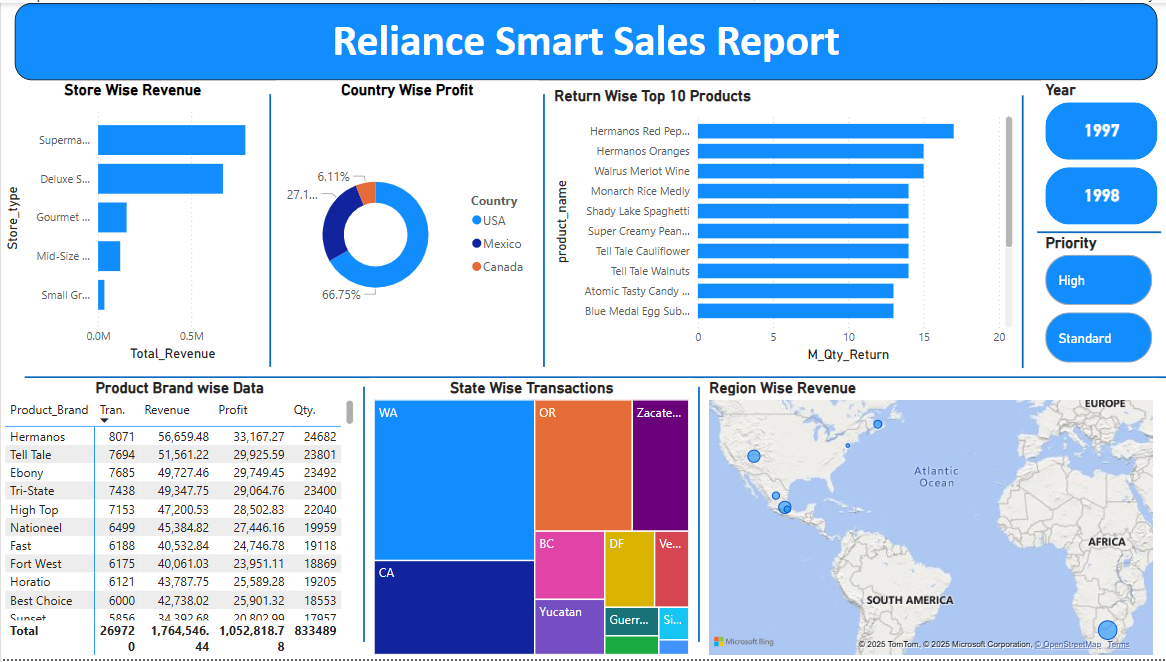

The dashboard page shown, as its layout file describes it:
{"tool":"powerbi","page":{"name":"Distribution Report","canvas":[1280,720],"ordinal":1},"visuals":[{"type":"textbox","box":[15.1,0,1254.2,85.1],"z":0},{"type":"shape","box":[26.1,404.8,1254.2,12.3],"z":1000},{"type":"shape","box":[1115.6,101.5,12.3,299.1],"z":2000},{"type":"shape","box":[590.6,100.3,12.2,299.6],"z":3000},{"type":"shape","box":[289.8,100.3,12.2,299.6],"z":4000},{"type":"shape","box":[392.5,421.3,12.3,279.9],"z":5000},{"type":"shape","box":[760.2,421.3,12.3,279.9],"z":6000},{"type":"barChart","title":"Store Wise Revenue","fields":{"Category":["d_Stores.store_type"],"Y":["Measures (2).M_Total_Revenue"]},"box":[0,85.1,289.5,312.9],"z":7000},{"type":"donutChart","title":"Country Wise Profit","fields":{"Y":["Measures (2).M_Total_Profit"],"Category":["d_Stores.store_country"]},"box":[301.9,85.1,288.2,319.7],"z":8000},{"type":"advancedSlicerVisual","fields":{"Values":["d_Calendar.Year"]},"box":[1141.7,85.1,133.1,163.3],"z":9000},{"type":"pivotTable","title":"Product Brand wise Data","fields":{"Rows":["d_Products.product_brand"],"Values":["Measures (2).M_Total_Transactions","Measures (2).M_Total_Revenue","Measures (2).M_Total_Profit","Measures (2).M_Quantity_Sold"]},"box":[0,411.7,392.5,308.7],"z":10000},{"type":"treemap","title":"State Wise Transactions","fields":{"Group":["d_Customers.customer_state_province"],"Values":["Measures (2).M_Total_Transactions"]},"box":[404.8,411.7,355.4,308.7],"z":11000},{"type":"map","title":"Region Wise Revenue","fields":{"Size":["Measures (2).M_Total_Revenue"],"Category":["d_Regions.sales_region Hierarchy.sales_region","d_Regions.sales_region Hierarchy.sales_district"]},"box":[772.6,411.7,496.7,308.7],"z":12000},{"type":"advancedSlicerVisual","fields":{"Values":["d_Customers.Priority"]},"box":[1141.7,252.5,127.6,148.2],"z":13000},{"type":"barChart","title":"Return Wise Top 10 Products","fields":{"Y":["Measures (2).M_Qty_Return"],"Category":["d_Products.product_name"]},"box":[602.4,91.9,513.2,307.4],"z":14000},{"type":"shape","box":[1137.6,245.6,135.8,12.3],"z":15000}]}

Visuals, with their boxes in screenshot pixels (x1, y1, x2, y2), scaled from the page's 1280x720 canvas onto the 1166x662 screenshot:
textbox: box=[14, 0, 1156, 78]
shape: box=[24, 372, 1165, 384]
shape: box=[1016, 93, 1027, 368]
shape: box=[538, 92, 549, 368]
shape: box=[264, 92, 275, 368]
shape: box=[358, 387, 369, 645]
shape: box=[692, 387, 704, 645]
"Store Wise Revenue" barChart: box=[0, 78, 264, 366]
"Country Wise Profit" donutChart: box=[275, 78, 538, 372]
advancedSlicerVisual - d_Calendar.Year: box=[1040, 78, 1161, 228]
"Product Brand wise Data" pivotTable: box=[0, 379, 358, 661]
"State Wise Transactions" treemap: box=[369, 379, 692, 661]
"Region Wise Revenue" map: box=[704, 379, 1156, 661]
advancedSlicerVisual - d_Customers.Priority: box=[1040, 232, 1156, 368]
"Return Wise Top 10 Products" barChart: box=[549, 84, 1016, 367]
shape: box=[1036, 226, 1160, 237]
